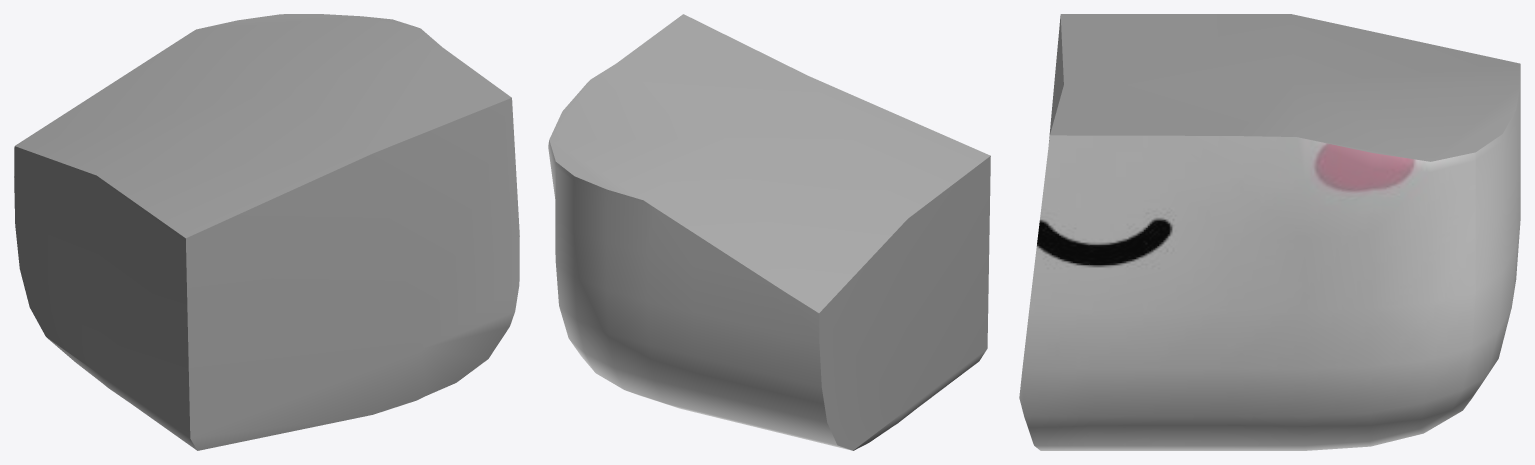
Rendered from Happy_Box4.fbx.
3 renders of one model, left to right at view 1: azimuth 30°, elevation 25°; view 2: azimuth 150°, elevation 25°; view 3: azimuth 270°, elevation 25°, orthographic. The views are drawn at different scales.
Parts seen in each view (by area): view 1: Happy_Box4; view 2: Happy_Box4; view 3: Happy_Box4.
Part boxes in pixels (bbox=[...]): Happy_Box4: bbox=[14, 14, 519, 450]; Happy_Box4: bbox=[548, 14, 990, 450]; Happy_Box4: bbox=[1019, 14, 1520, 450].
Bounding box in the file's own units: 29.62 × 23.98 × 29.46.
Materials: 2 (1 with a texture image).
